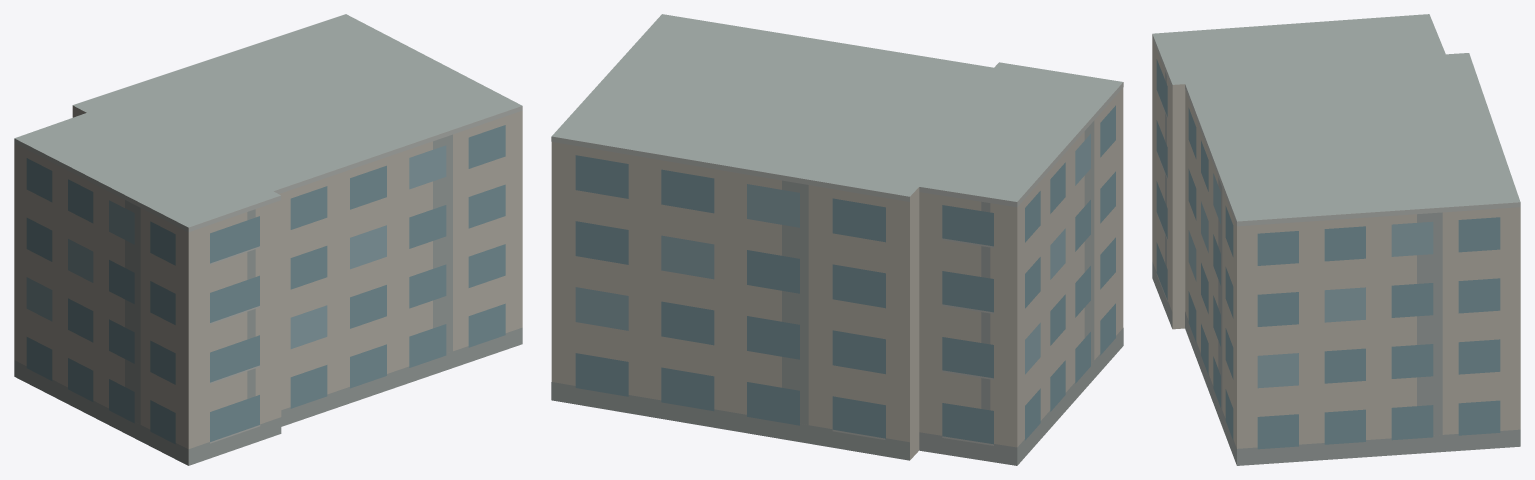
The model's file is survey-upis-32501109.glb.
3 renders of one model, left to right at view 1: azimuth 30°, elevation 25°; view 2: azimuth 150°, elevation 25°; view 3: azimuth 270°, elevation 25°, orthographic. The views are drawn at different scales.
Parts seen in each view (by area): view 1: survey-upis-32501109.tmp; view 2: survey-upis-32501109.tmp; view 3: survey-upis-32501109.tmp.
Part boxes in pixels (<box>): survey-upis-32501109.tmp: <box>14,14,522,465</box>; survey-upis-32501109.tmp: <box>551,14,1123,465</box>; survey-upis-32501109.tmp: <box>1152,14,1520,465</box>.
Bounding box in the file's own units: 22.22 × 12.2 × 16.67.
